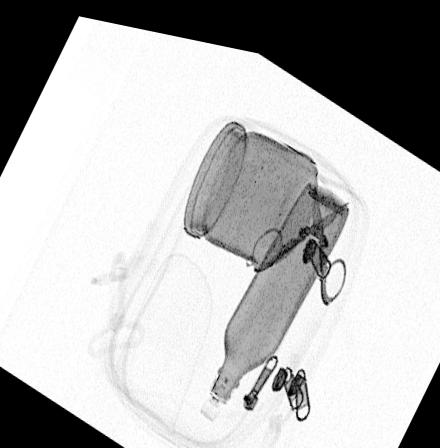Scissors: (251, 167, 350, 294)
